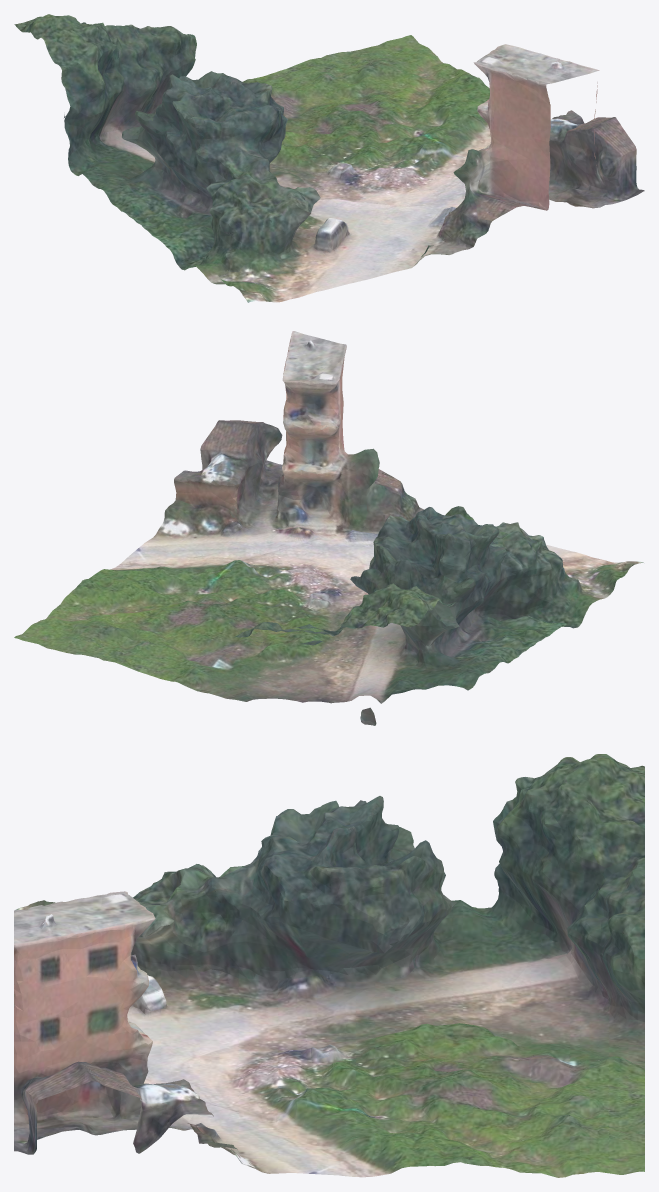
File: Tile__005__004_L22_00031000.glb
The picture shows the model from 3 angles, top to bottom: view 1: azimuth 30°, elevation 25°; view 2: azimuth 150°, elevation 25°; view 3: azimuth 270°, elevation 25°; orthographic projection. The views are drawn at different scales.
Visible parts, largest first — view 1: root; view 2: root; view 3: root.
Boxes of the visible parts, box(x1,y1,x2,y2) form: root: box(14, 14, 644, 302); root: box(14, 331, 643, 725); root: box(14, 754, 644, 1177).
Size of the model in its own units: 25.06 by 10.24 by 25.59.
1 material, 1 textured.
